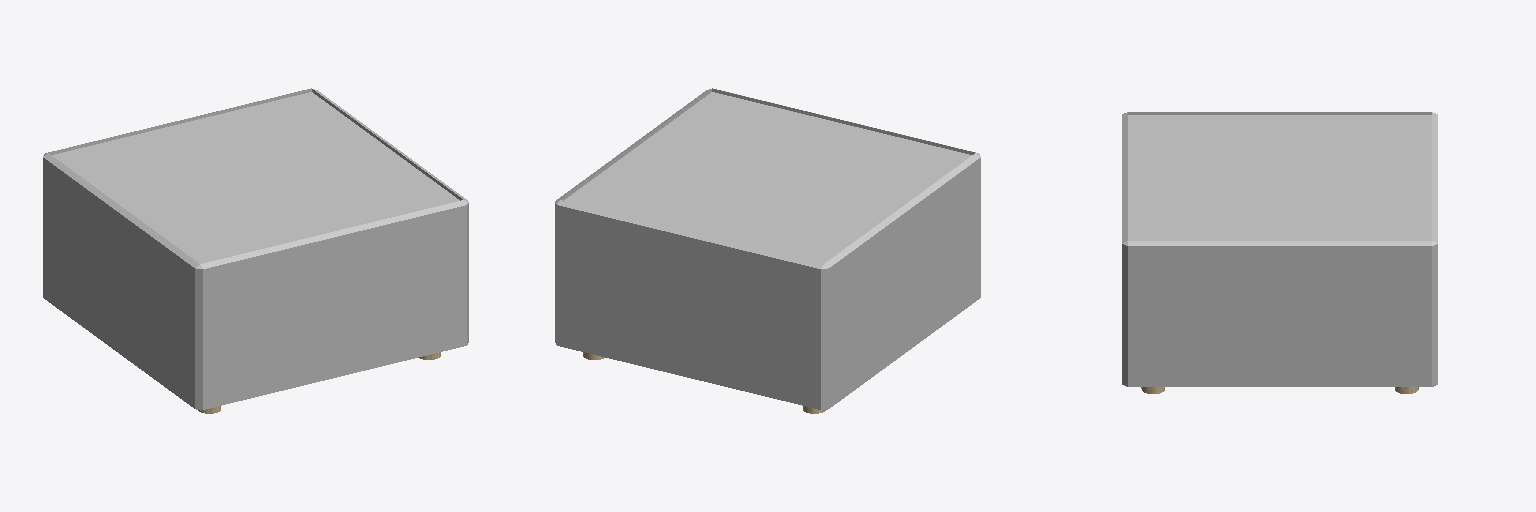
3 renders of one model, left to right at view 1: azimuth 30°, elevation 25°; view 2: azimuth 150°, elevation 25°; view 3: azimuth 270°, elevation 25°, orthographic.
Visible parts, largest first — view 1: Tu_to_Cube.001; view 2: Tu_to_Cube.001; view 3: Tu_to_Cube.001.
Part boxes in pixels (x1,y1,x2,y2): Tu_to_Cube.001: (43, 88, 468, 410); Tu_to_Cube.001: (555, 88, 980, 410); Tu_to_Cube.001: (1122, 112, 1437, 386).
Size of the model in its own units: 2 by 1.11 by 2.
Materials: 3 (1 with a texture image).